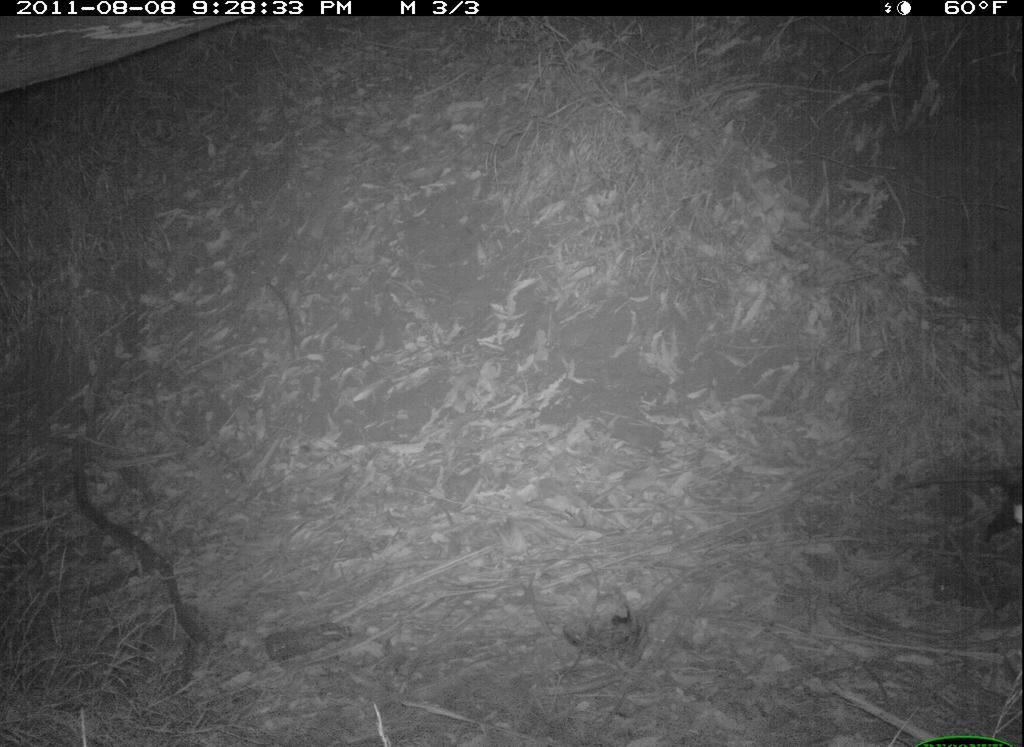opossum: (899, 466, 1024, 550)
